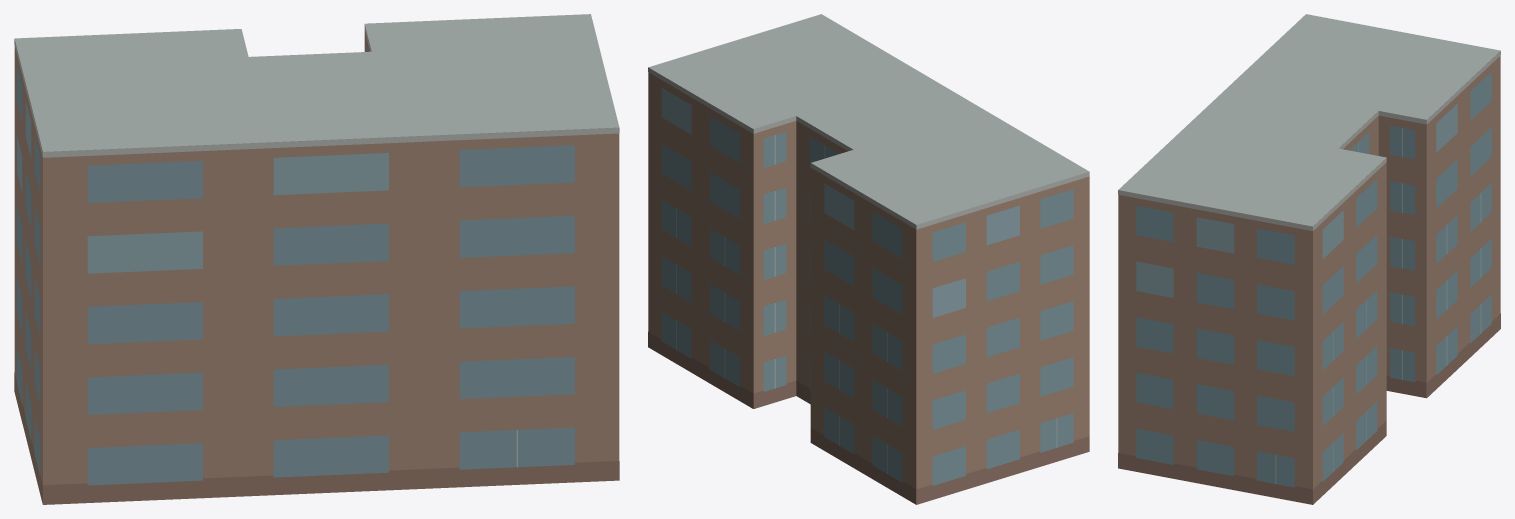
File: survey-upis-32672072.glb
3 views of the same model, side by side, from view 1: azimuth 30°, elevation 25°; view 2: azimuth 150°, elevation 25°; view 3: azimuth 270°, elevation 25° (orthographic). The views are drawn at different scales.
Parts seen in each view (by area): view 1: survey-upis-32672072.tmp; view 2: survey-upis-32672072.tmp; view 3: survey-upis-32672072.tmp.
Part boxes in pixels (x1,y1,x2,y2): survey-upis-32672072.tmp: (14,14,619,504); survey-upis-32672072.tmp: (648,14,1089,504); survey-upis-32672072.tmp: (1118,14,1500,504).
Bounding box in the file's own units: 23.92 × 14.6 × 18.2.
